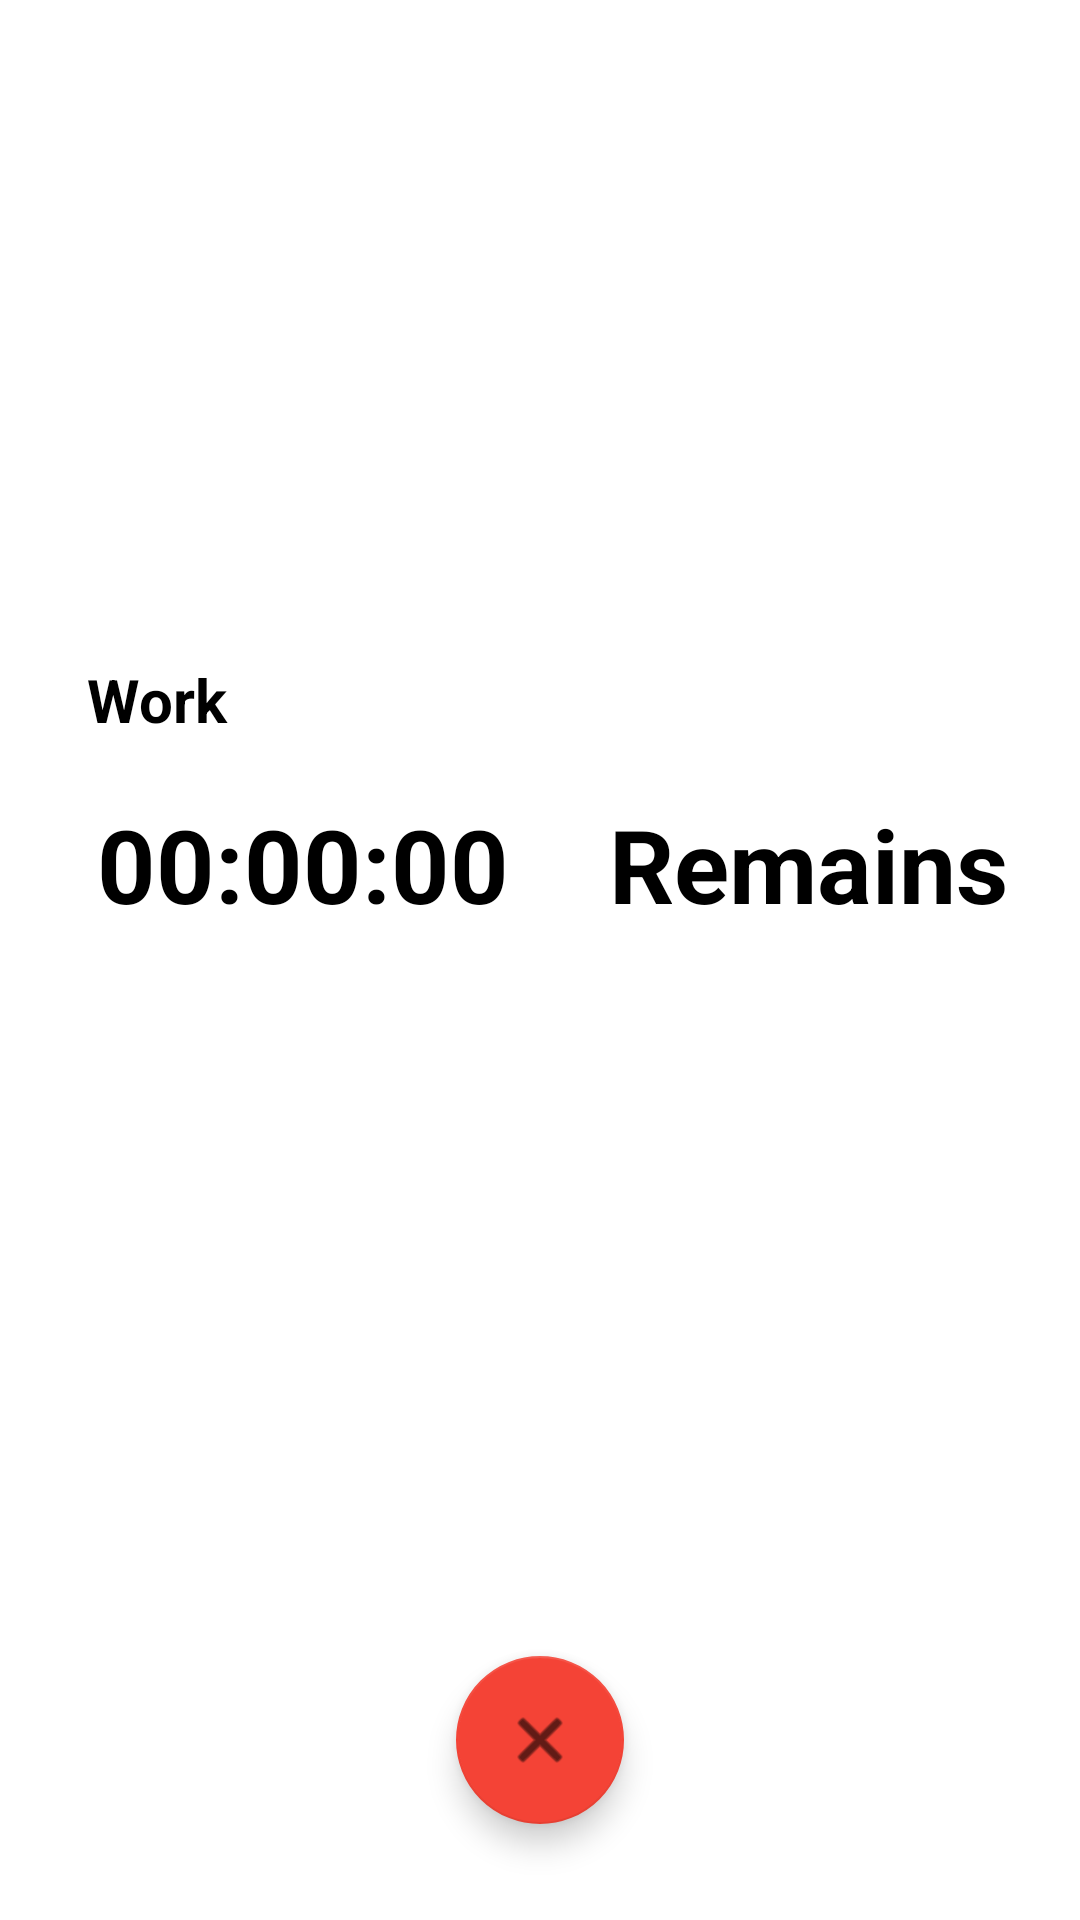

Where icons sit on this 1080*1920 app screen, as [left=x1, top=y1, right=x2, bottom=y2]:
close clear cancel: [left=456, top=1656, right=624, bottom=1824]
